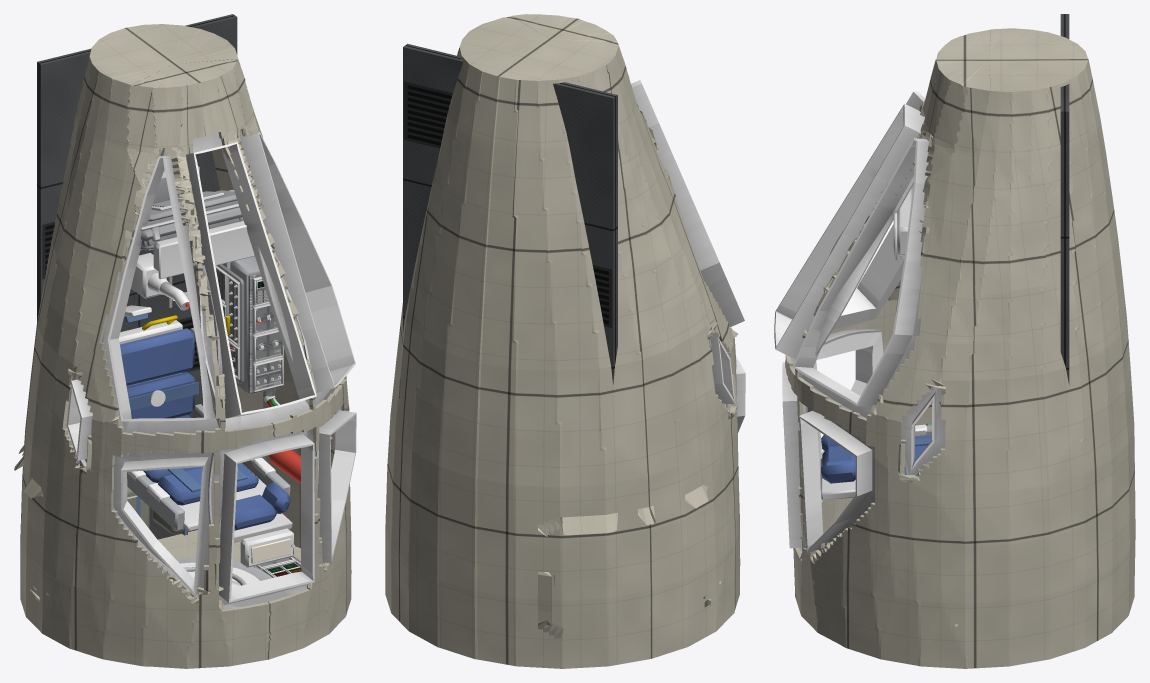
File: CockpitMk1Interior.fbx
3 renders of one model, left to right at view 1: azimuth 30°, elevation 25°; view 2: azimuth 150°, elevation 25°; view 3: azimuth 270°, elevation 25°, orthographic. The views are drawn at different scales.
Visible parts, largest first — view 1: Mesh_WallCream, Mesh_FrameDark.001, Mesh_DeckPlate, Mesh_SeatBlue, Mesh_Frame.001, Mesh_ShuttlePanel, Mesh_GlareshieldDetail, Mesh_Bezel, Mesh_Strap, Mesh_Frame, Mesh_AccentRed, Mesh_Rubber (+2 smaller); view 2: Mesh_WallCream, Mesh_DeckPlate, Mesh_FrameDark.001; view 3: Mesh_WallCream, Mesh_FrameDark.001, Mesh_DeckPlate, Mesh_SeatBlue, Mesh_GlareshieldDetail.
Boxes of the visible parts, bbox=[...] form: Mesh_WallCream: bbox=[14, 24, 351, 668]; Mesh_FrameDark.001: bbox=[46, 129, 356, 609]; Mesh_DeckPlate: bbox=[37, 14, 237, 539]; Mesh_SeatBlue: bbox=[120, 328, 290, 530]; Mesh_Frame.001: bbox=[127, 166, 332, 585]; Mesh_ShuttlePanel: bbox=[141, 217, 300, 573]; Mesh_GlareshieldDetail: bbox=[153, 221, 254, 279]; Mesh_Bezel: bbox=[141, 249, 301, 577]; Mesh_Strap: bbox=[125, 307, 247, 535]; Mesh_Frame: bbox=[140, 245, 300, 571]; Mesh_AccentRed: bbox=[185, 302, 300, 483]; Mesh_Rubber: bbox=[147, 273, 189, 310]; Mesh_WallCream: bbox=[385, 14, 740, 668]; Mesh_DeckPlate: bbox=[403, 43, 617, 384]; Mesh_FrameDark.001: bbox=[631, 80, 745, 584]; Mesh_WallCream: bbox=[785, 28, 1135, 668]; Mesh_FrameDark.001: bbox=[774, 91, 957, 626]; Mesh_DeckPlate: bbox=[1060, 14, 1069, 384]; Mesh_SeatBlue: bbox=[821, 435, 931, 483]; Mesh_GlareshieldDetail: bbox=[893, 184, 913, 260].
Bounding box in the file's own units: 1.18 × 2.05 × 1.25.
